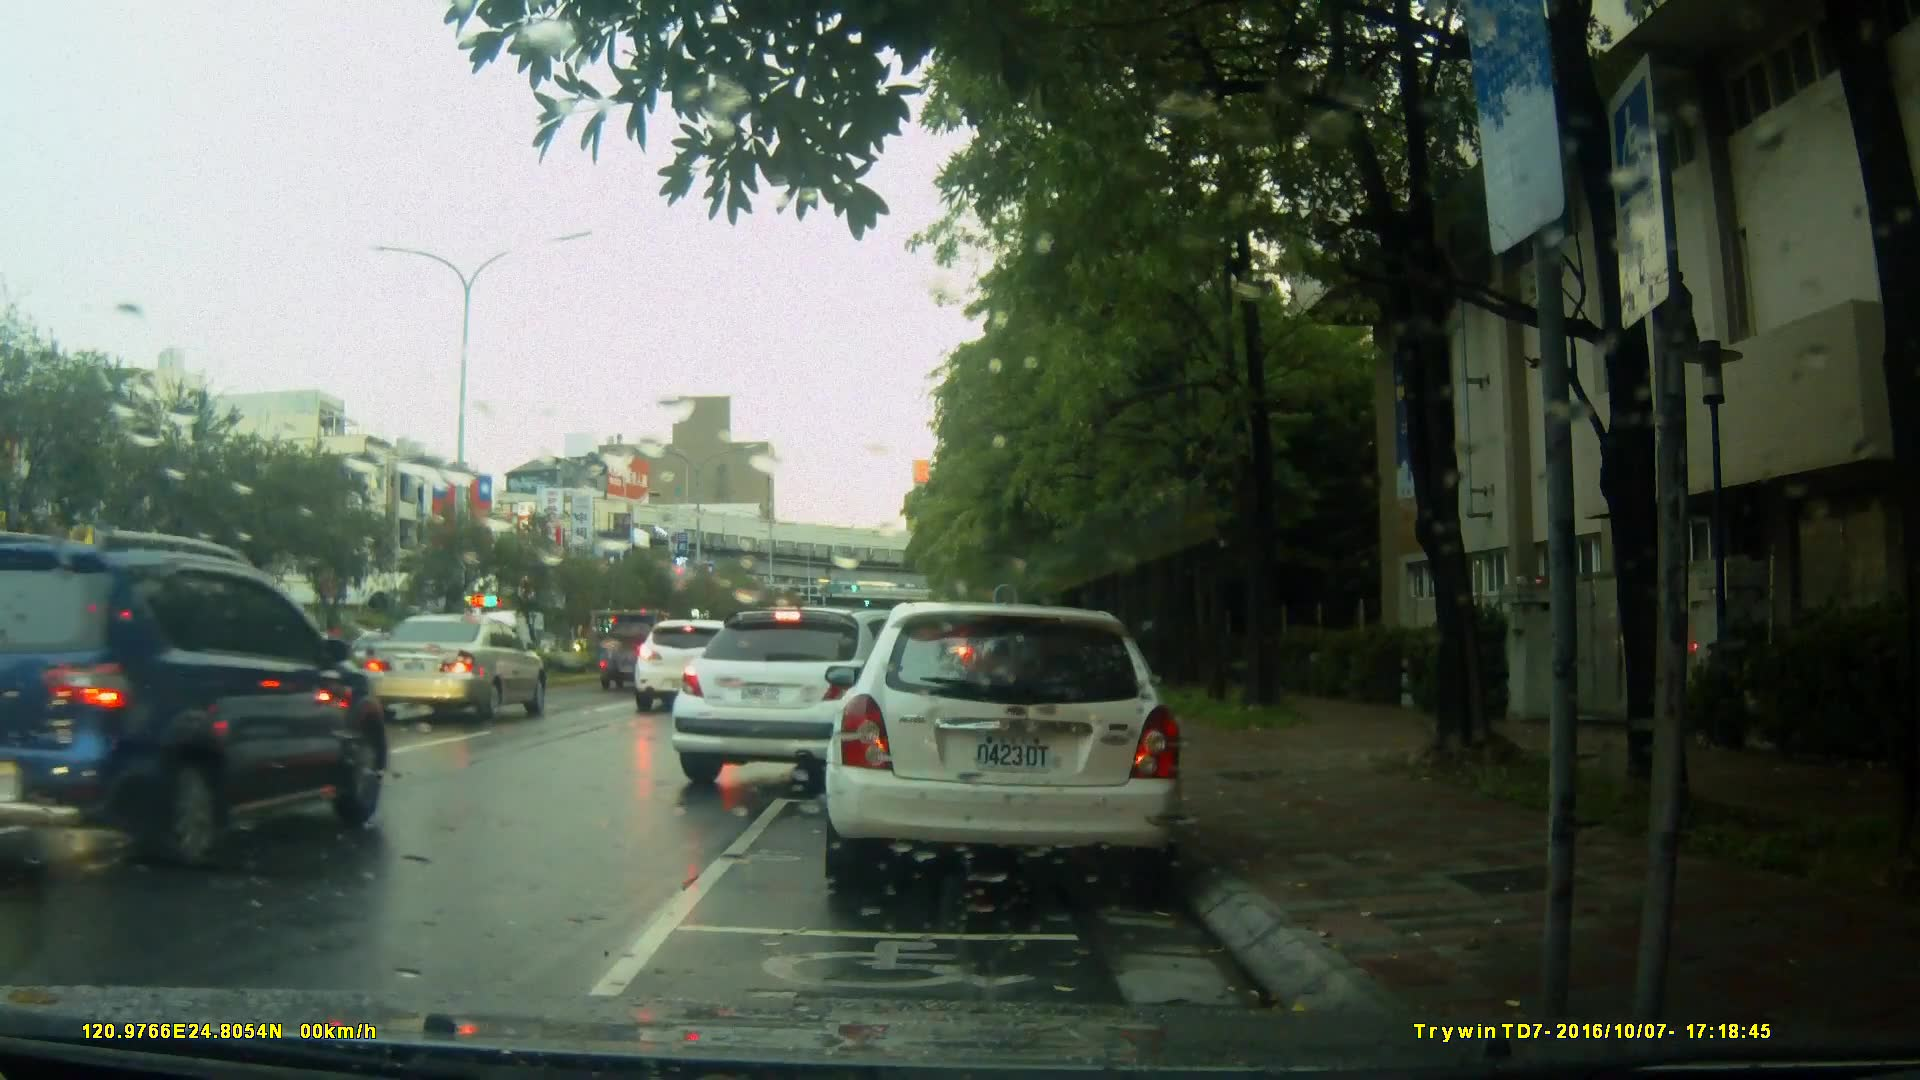vehicle: (1, 527, 394, 877), (820, 603, 1188, 898), (669, 605, 969, 796), (353, 613, 549, 724), (633, 617, 750, 717)
